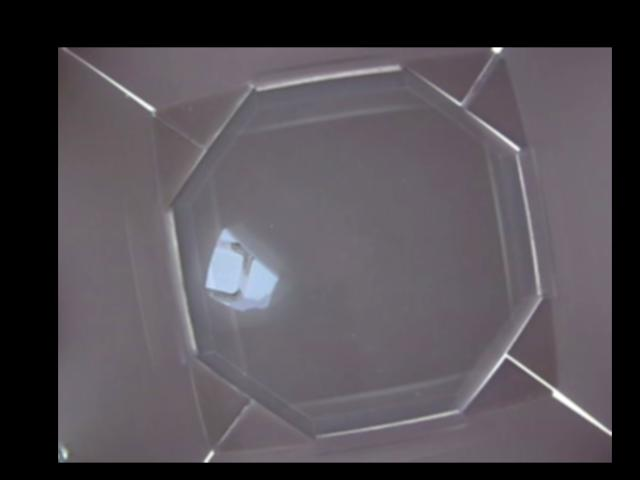China: (205, 229, 278, 312)
